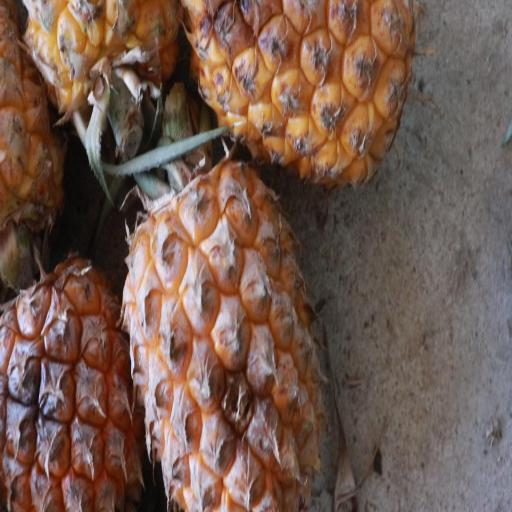Pineapple - v8 v1: (123, 164, 329, 512), (178, 0, 416, 192), (0, 263, 138, 510)
